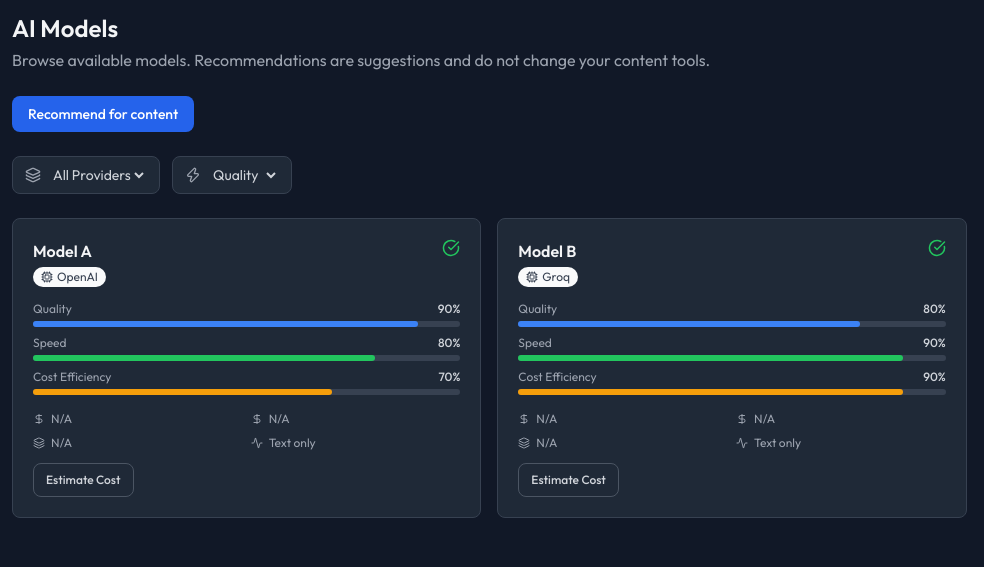
Scenario: AI model recommendation contract › requests an automatic content recommendation and displays the actual result
Click the button "Recommend for content" at x=103, y=114, box [12, 96, 194, 132]
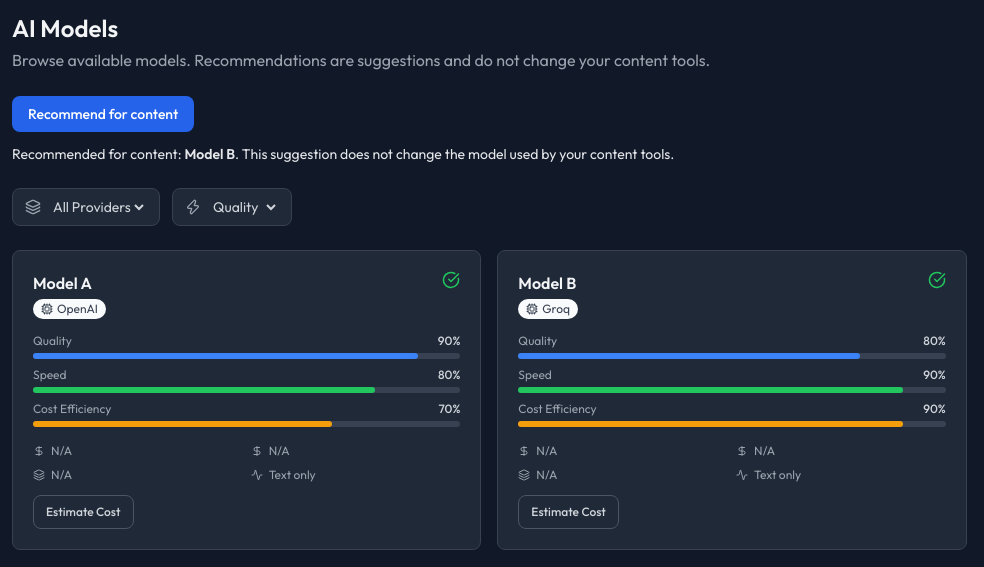
Check: the message shows "Model B", box [184, 145, 235, 163]
Check: the message shows "does not change", box [235, 145, 674, 163]
